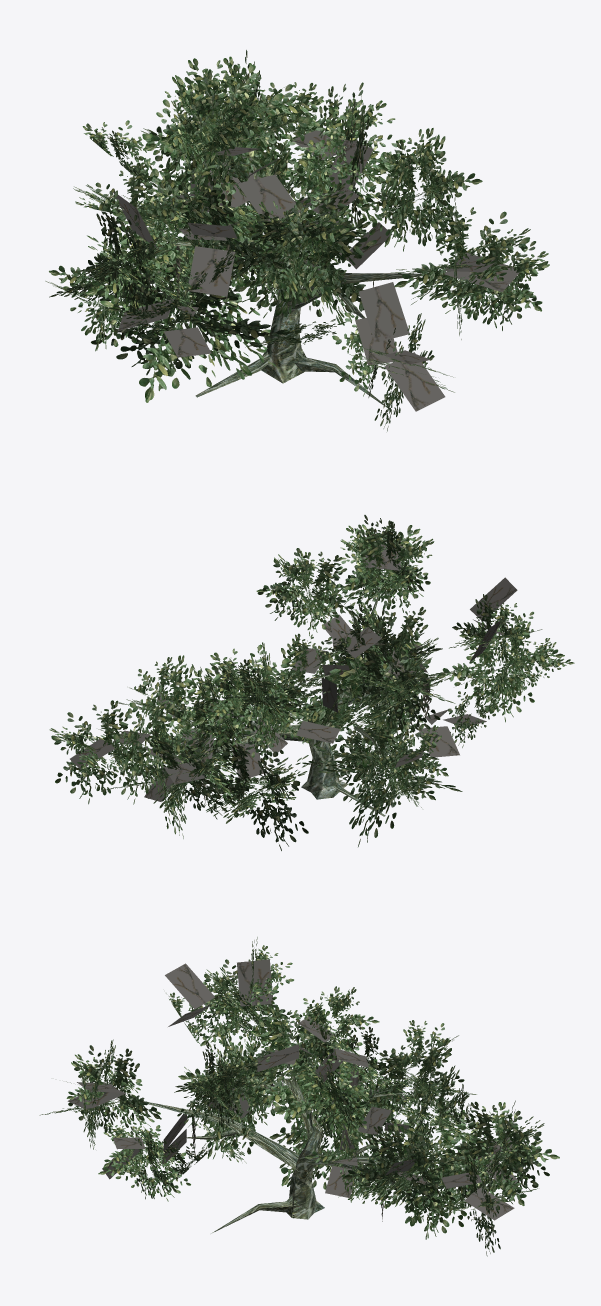
File: tree04.FBX
3 views of the same model, one above another, from view 1: azimuth 30°, elevation 25°; view 2: azimuth 150°, elevation 25°; view 3: azimuth 270°, elevation 25° (orthographic). The views are drawn at different scales.
Visible parts, largest first — view 1: objmesh_SampleLeaves_023, objmesh_Branches_013, objmesh_dashu023; view 2: objmesh_SampleLeaves_023, objmesh_Branches_013, objmesh_dashu023; view 3: objmesh_SampleLeaves_023, objmesh_Branches_013, objmesh_dashu023.
Part boxes in pixels (box(x1,y1,x2,y2)): objmesh_SampleLeaves_023: box(45, 50, 549, 431); objmesh_Branches_013: box(85, 130, 519, 411); objmesh_dashu023: box(151, 159, 421, 407); objmesh_SampleLeaves_023: box(49, 515, 574, 850); objmesh_Branches_013: box(70, 544, 517, 801); objmesh_dashu023: box(187, 582, 434, 816); objmesh_SampleLeaves_023: box(39, 937, 559, 1256); objmesh_Branches_013: box(67, 959, 526, 1220); objmesh_dashu023: box(130, 1061, 407, 1233).
Bounding box in the file's own units: 42.08 × 50.37 × 26.25.
